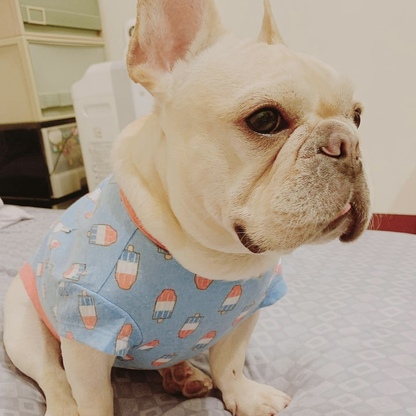bulldog: (1, 1, 375, 416)
